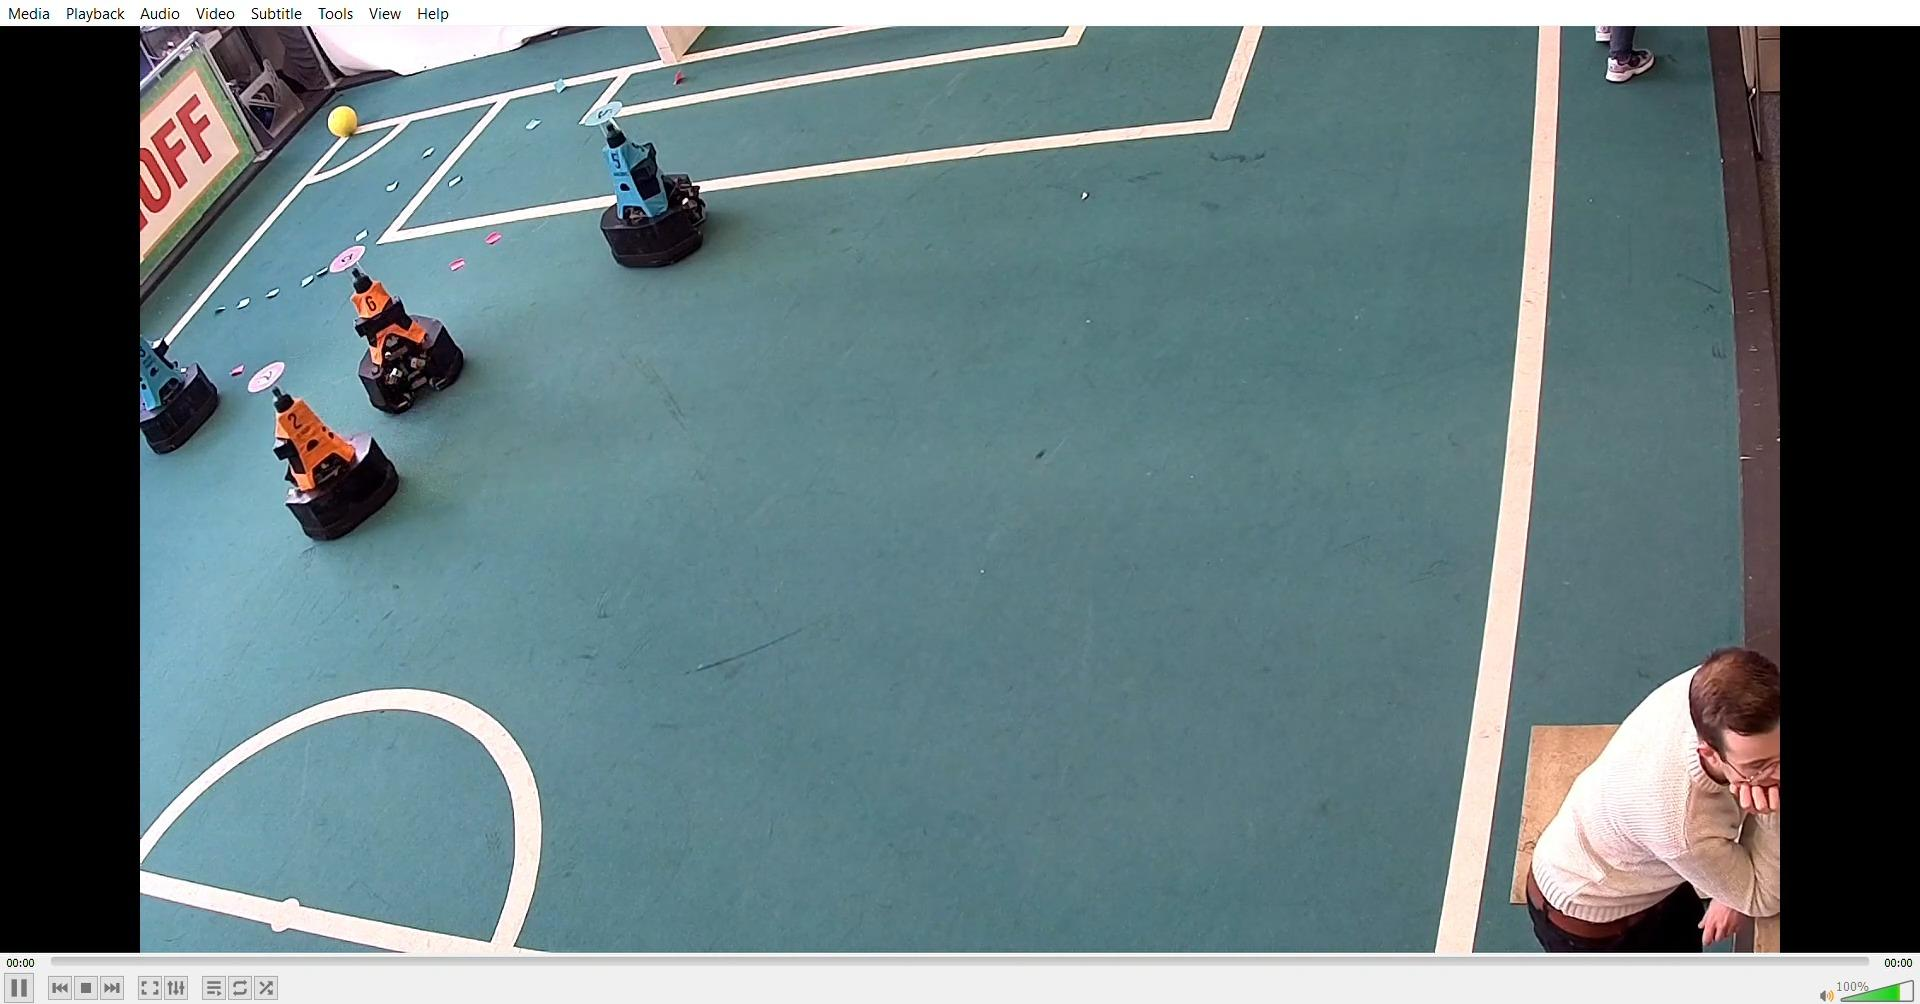Ball: (334, 104, 370, 137)
Team_Blue: (582, 91, 720, 272), (140, 316, 237, 454)
Team_Red: (249, 354, 397, 539), (325, 235, 467, 411)
